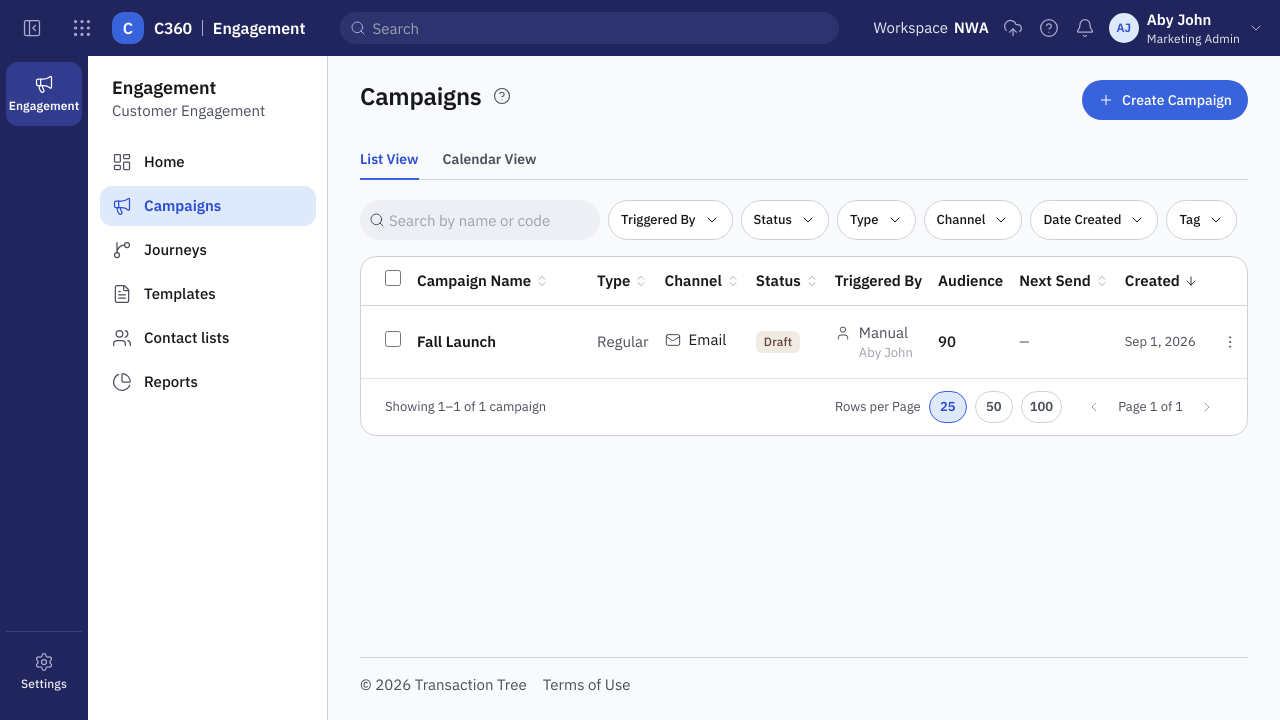
Test case: collapsing turns the menu into a 64px column of icons, keeps the rail, and is remembered; expanding brings the labels back
Expected: the navigation bar named "Main" is shown, 100,76 -> 316,392
What coordinates should you click on to do the following:
click the button named "Collapse navigation"
I would click on:
 (32, 28)
Its box is 12,8 -> 52,48.
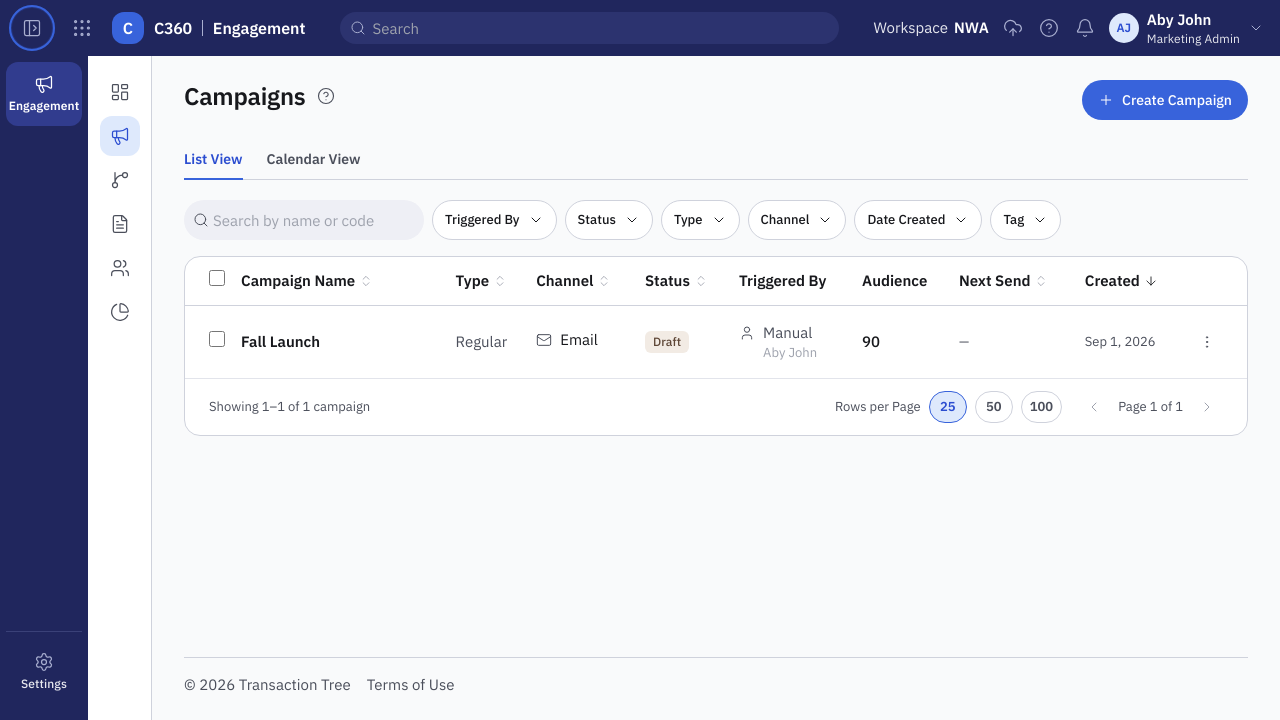
Expected: the link named "Campaigns" is empty, 100,116 -> 140,156
Expected: the link "Customer Engagement" is gone
Expected: the button named "Expand navigation" is collapsed
What coordinates should you click on to do the following:
click the button named "Expand navigation"
I would click on:
 (32, 28)
Its box is 12,8 -> 52,48.
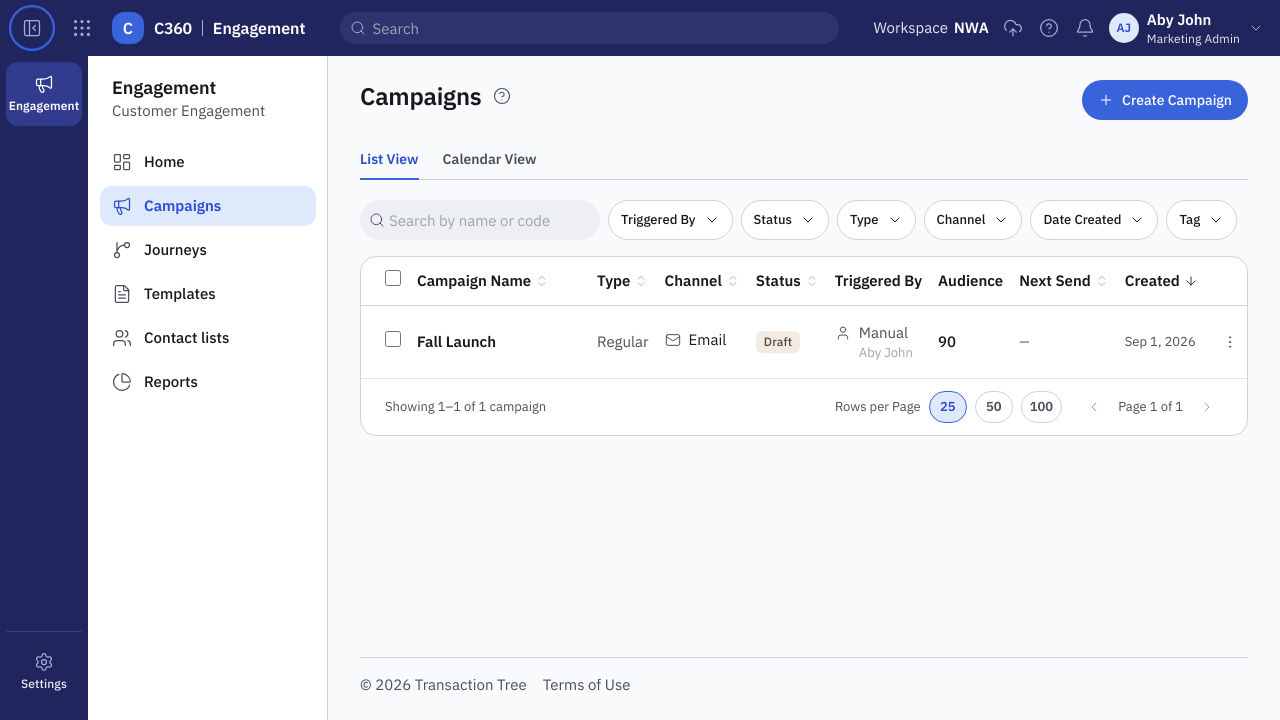
Expected: the link "Campaigns" is shown, 100,186 -> 316,226
